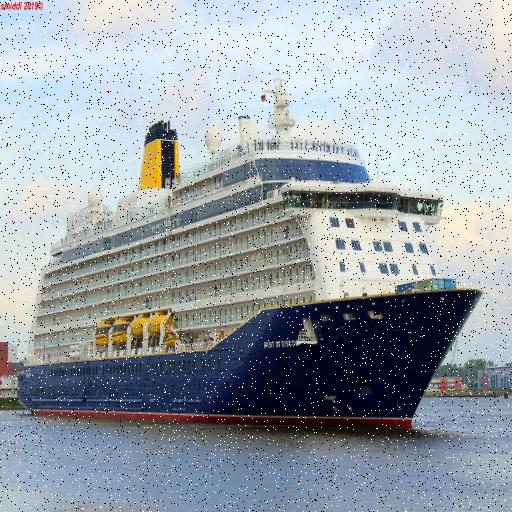cruises: (16, 70, 488, 453)
